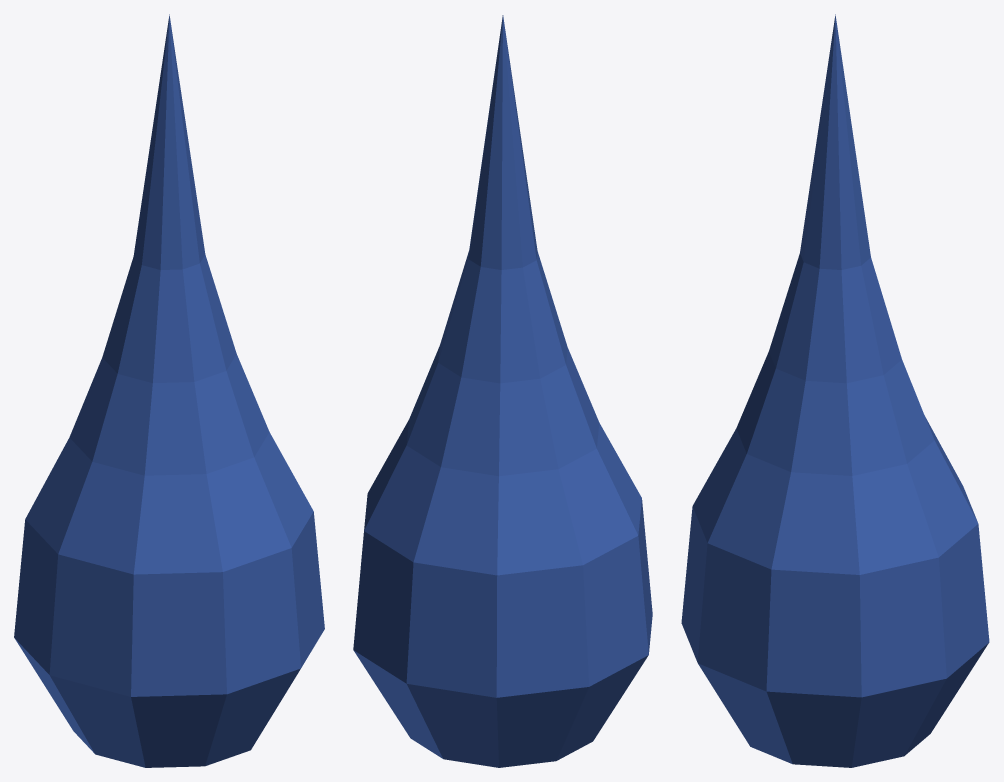
File: CollectibleWater.fbx
The picture shows the model from 3 angles, left to right: view 1: azimuth 30°, elevation 25°; view 2: azimuth 150°, elevation 25°; view 3: azimuth 270°, elevation 25°; orthographic projection.
Visible parts, largest first — view 1: Fx_Fbx_WaterPoint_01; view 2: Fx_Fbx_WaterPoint_01; view 3: Fx_Fbx_WaterPoint_01.
Boxes of the visible parts, box(x1,y1,x2,y2) form: Fx_Fbx_WaterPoint_01: box(14, 14, 324, 767); Fx_Fbx_WaterPoint_01: box(353, 15, 652, 767); Fx_Fbx_WaterPoint_01: box(681, 14, 989, 767).
Size of the model in its own units: 0.2812 by 0.7587 by 0.2823.
